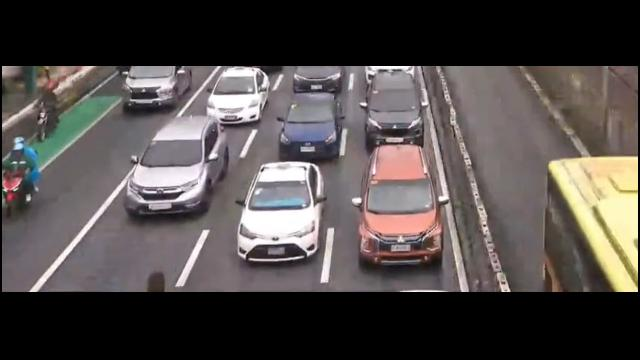bus: (532, 145, 640, 293)
car: (354, 141, 442, 263), (122, 113, 224, 216), (242, 163, 322, 264), (364, 75, 432, 147), (277, 92, 343, 166), (115, 62, 198, 110), (209, 67, 267, 130), (292, 67, 343, 95), (364, 66, 415, 89)
motorcycle: (1, 127, 38, 222), (35, 80, 63, 141)
